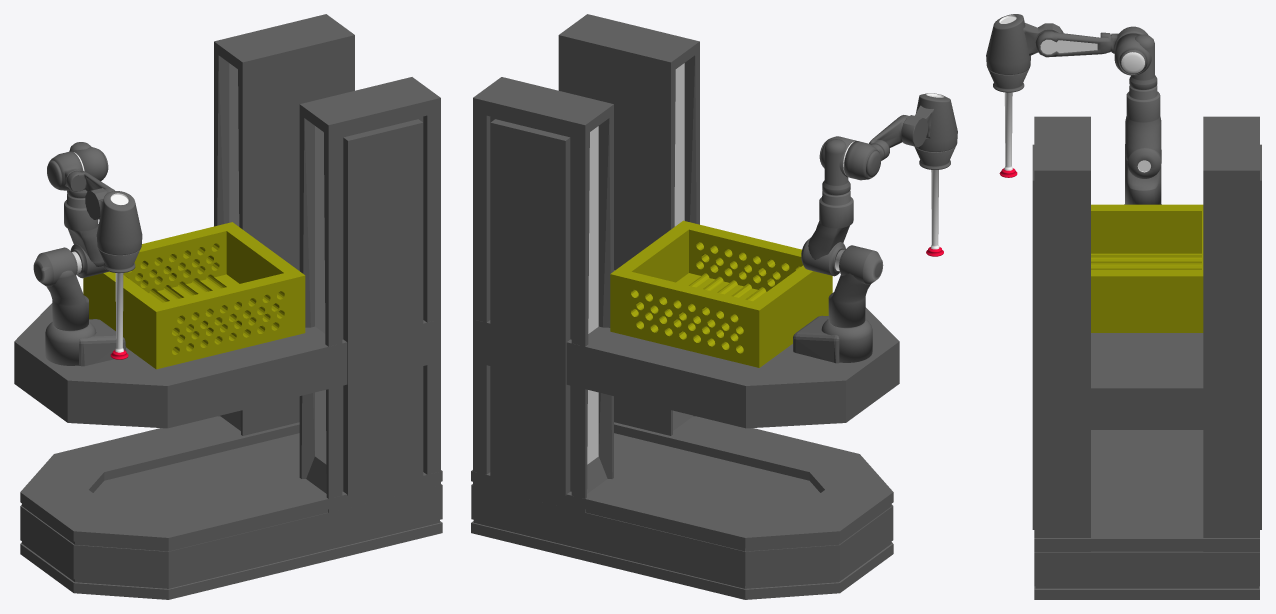
Rendered from outr.dae.
3 renders of one model, left to right at view 1: azimuth 30°, elevation 25°; view 2: azimuth 150°, elevation 25°; view 3: azimuth 270°, elevation 25°, orthographic.
Visible parts, largest first — view 1: kaldırac, alt taban, Kutu, üst taban, Cylinder.005, Cylinder.001, Cylinder.002, robot kol.001, Cylinder.003, Cylinder.004; view 2: kaldırac, alt taban, Kutu, üst taban, Cylinder.002, Cylinder.005, Cylinder.001, robot kol.001, Cylinder.003, Cylinder.004; view 3: kaldırac, alt taban, Kutu, üst taban, Cylinder.002, Cylinder.005, Cylinder.004, Cylinder.001.
Part boxes in pixels (bbox=[...]): kaldırac: bbox=[214, 14, 440, 512]; alt taban: bbox=[20, 416, 442, 599]; Kutu: bbox=[83, 222, 305, 369]; üst taban: bbox=[14, 270, 440, 428]; Cylinder.005: bbox=[85, 188, 142, 359]; Cylinder.001: bbox=[33, 247, 88, 331]; Cylinder.002: bbox=[64, 142, 108, 278]; robot kol.001: bbox=[45, 319, 126, 366]; Cylinder.003: bbox=[47, 151, 83, 190]; Cylinder.004: bbox=[66, 171, 114, 192]; kaldırac: bbox=[473, 14, 699, 512]; alt taban: bbox=[471, 416, 893, 599]; Kutu: bbox=[610, 220, 832, 367]; üst taban: bbox=[473, 270, 899, 428]; Cylinder.002: bbox=[801, 136, 856, 276]; Cylinder.005: bbox=[901, 93, 957, 256]; Cylinder.001: bbox=[828, 245, 883, 328]; robot kol.001: bbox=[793, 315, 872, 363]; Cylinder.003: bbox=[844, 141, 884, 180]; Cylinder.004: bbox=[869, 115, 908, 160]; kaldırac: bbox=[1032, 116, 1261, 551]; alt taban: bbox=[1034, 430, 1259, 599]; Kutu: bbox=[1091, 204, 1203, 332]; üst taban: bbox=[1091, 333, 1203, 429]; Cylinder.002: bbox=[1114, 33, 1161, 178]; Cylinder.005: bbox=[986, 14, 1063, 177]; Cylinder.004: bbox=[1035, 31, 1111, 57]; Cylinder.001: bbox=[1125, 144, 1161, 204].
Size of the model in its own units: 1.24 by 0.8457 by 1.45.
